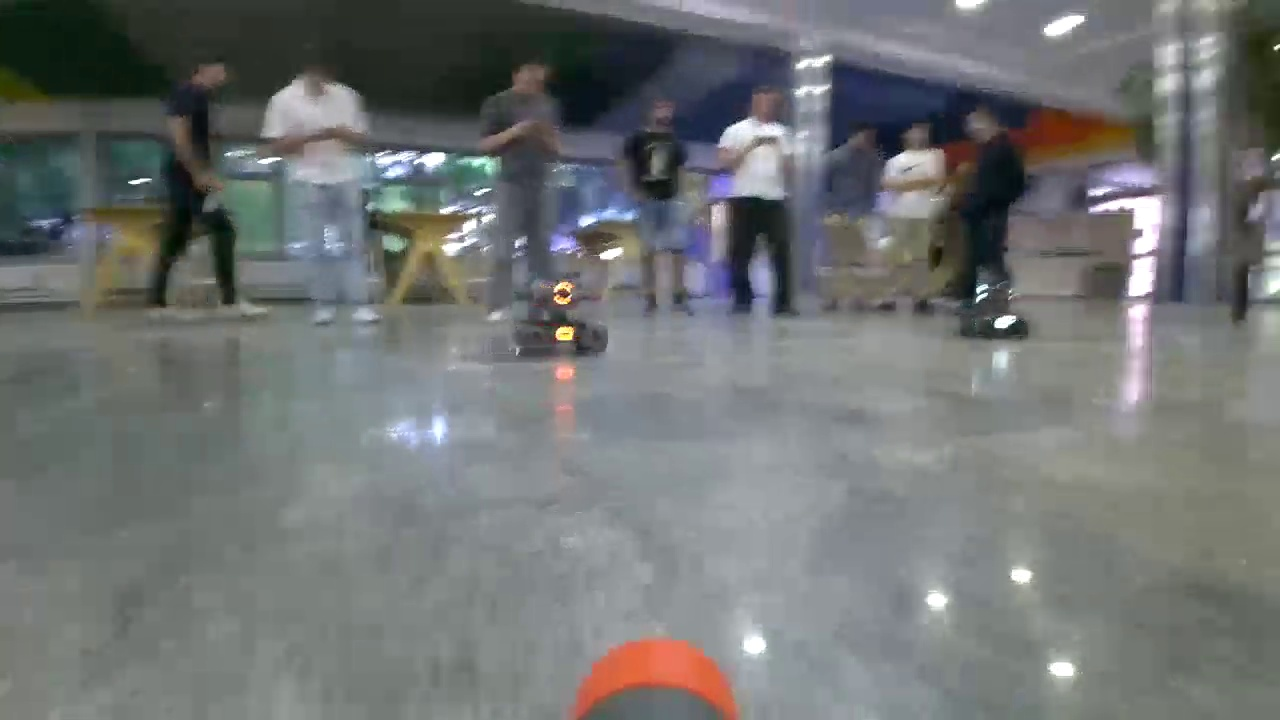robot: (510, 275, 608, 353), (960, 277, 1030, 338)
